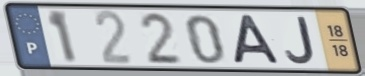0: (183, 13, 230, 65)
1: (46, 8, 80, 65)
2: (137, 10, 184, 65), (93, 9, 135, 66)
A: (230, 13, 284, 66)
J: (283, 15, 317, 65)
